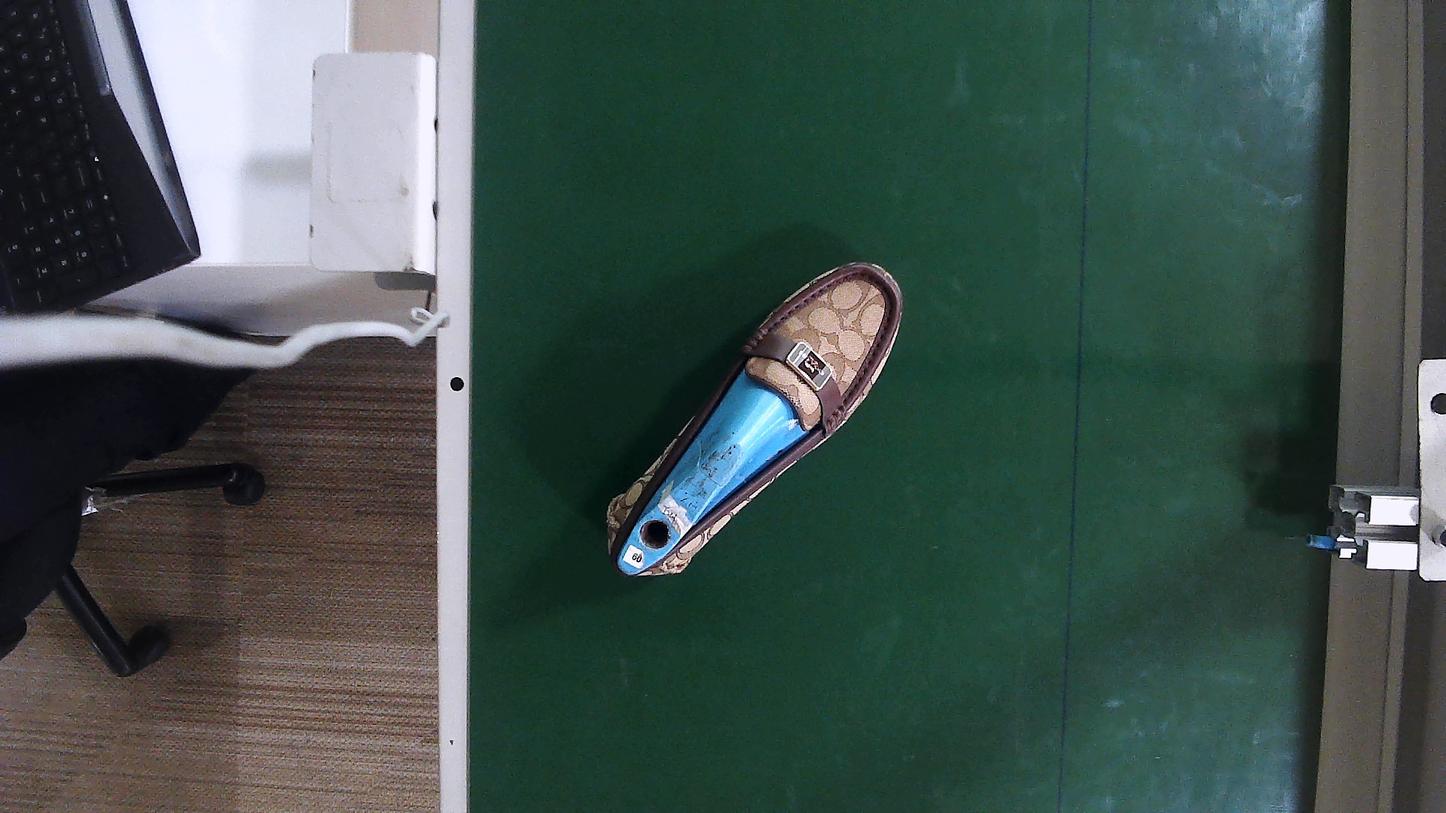shoe: (609, 266, 900, 577)
